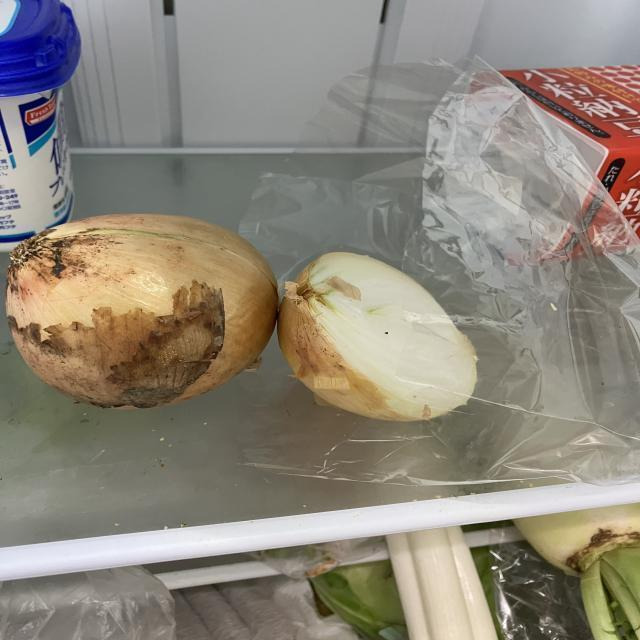Onion: (8, 210, 280, 409), (277, 252, 482, 421)
